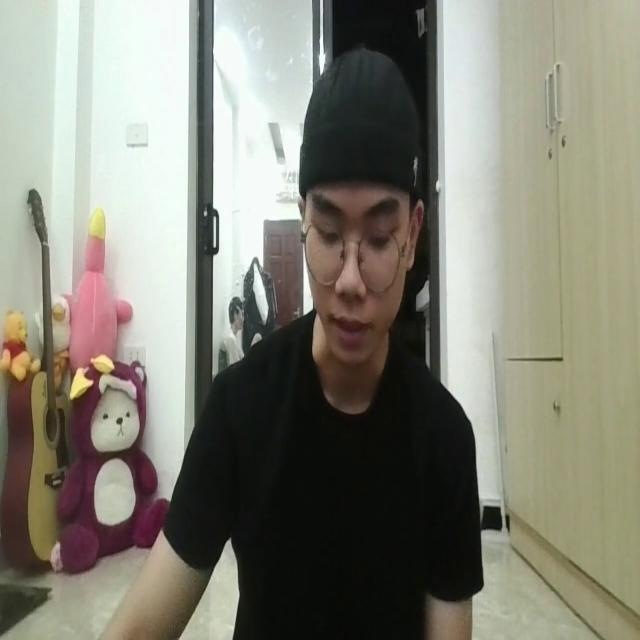student: (153, 53, 473, 640)
